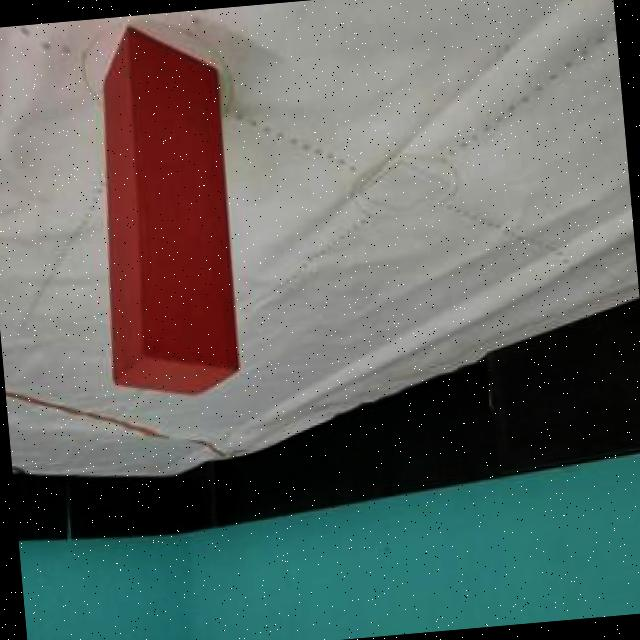redbox: (81, 22, 241, 404)
